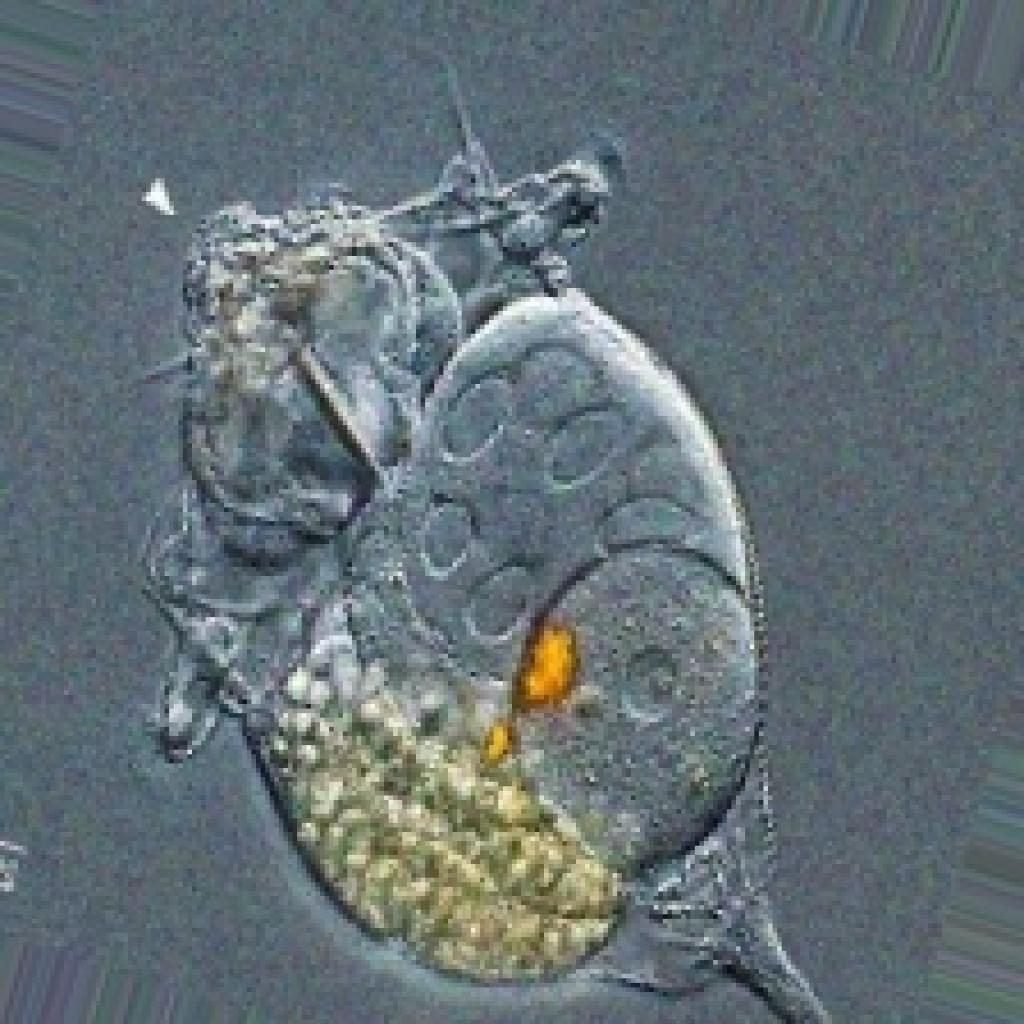Rotifer: (80, 96, 888, 1024)
